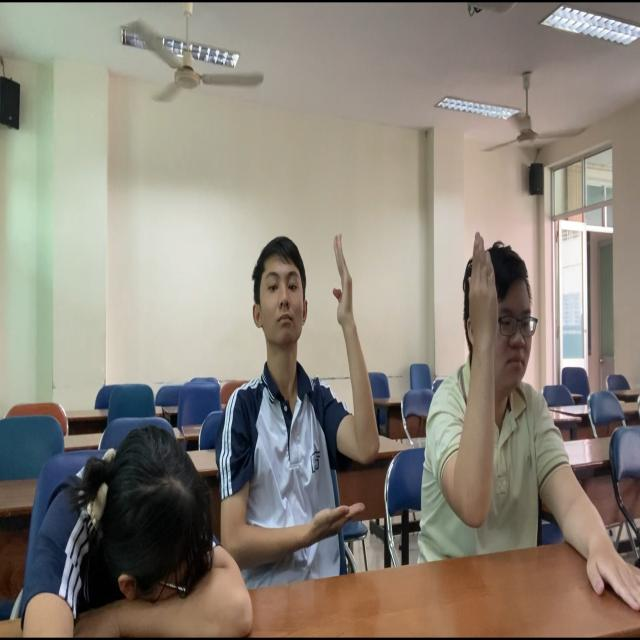raise_hand: (222, 231, 384, 588), (428, 235, 588, 585)
sleep: (1, 423, 221, 636)
